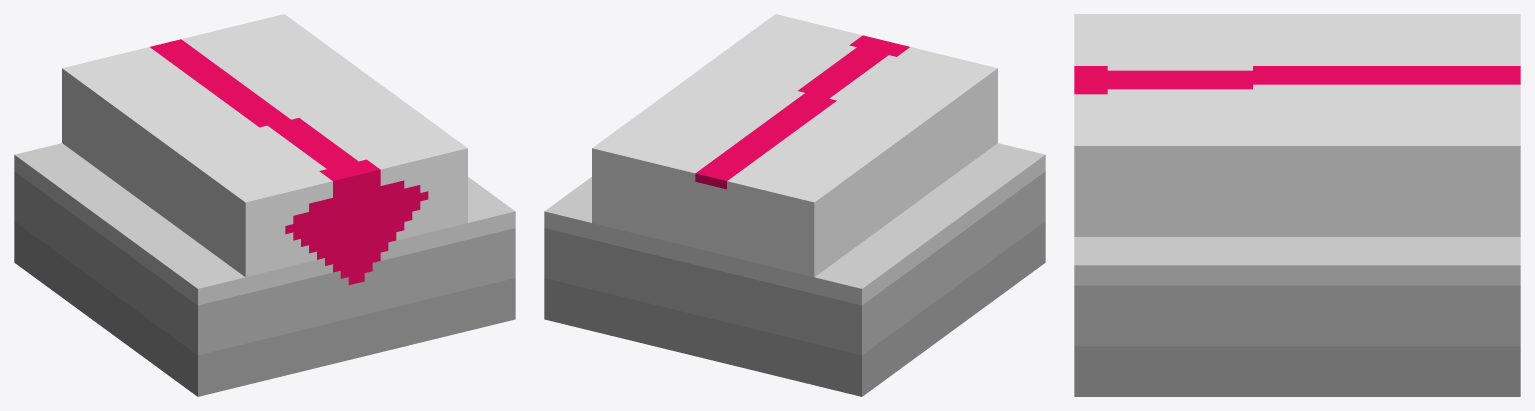
File: PuertaTecho.FBX
The picture shows the model from 3 angles, left to right: view 1: azimuth 30°, elevation 25°; view 2: azimuth 150°, elevation 25°; view 3: azimuth 270°, elevation 25°; orthographic projection. The views are drawn at different scales.
Visible parts, largest first — view 1: PuertaTecho; view 2: PuertaTecho; view 3: PuertaTecho.
Part boxes in pixels (left/top/right/bottom): PuertaTecho: left=14, top=14, right=515, bottom=396; PuertaTecho: left=544, top=14, right=1045, bottom=396; PuertaTecho: left=1074, top=14, right=1520, bottom=396.
Size of the model in its own units: 1 by 0.55 by 1.
Materials: 1 (1 with a texture image).
